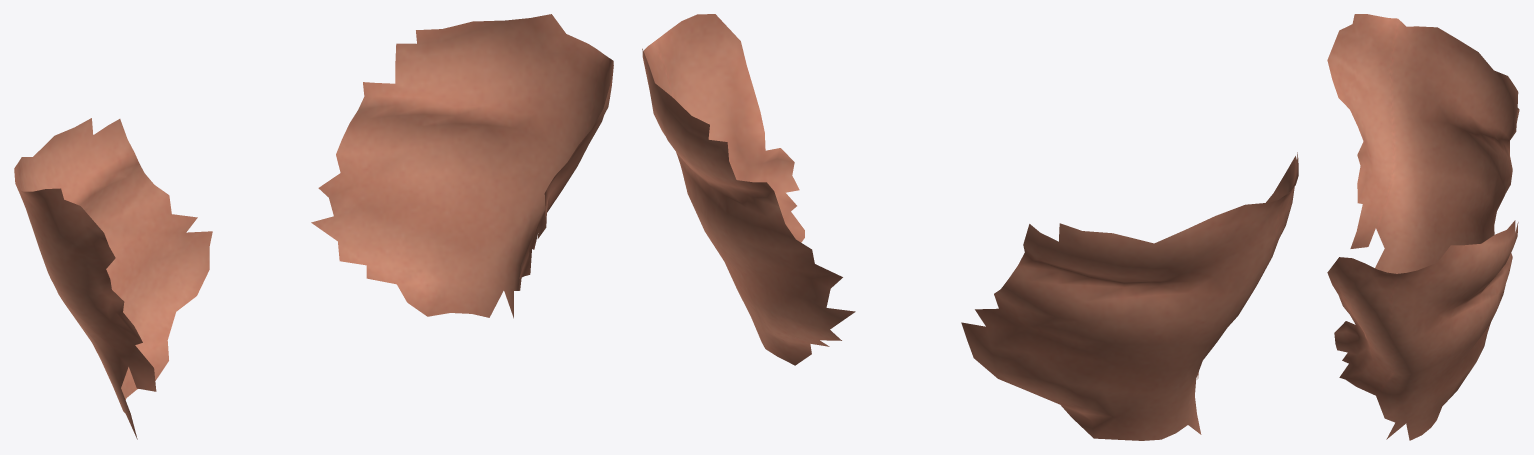
File: lats.glb
The picture shows the model from 3 angles, left to right: view 1: azimuth 30°, elevation 25°; view 2: azimuth 150°, elevation 25°; view 3: azimuth 270°, elevation 25°; orthographic projection. The views are drawn at different scales.
Parts seen in each view (by area): view 1: lats; view 2: lats; view 3: lats.
Part boxes in pixels (x1,y1,x2,y2): lats: [14, 14, 613, 439]; lats: [642, 14, 1298, 440]; lats: [1327, 14, 1519, 440].
Size of the model in its own units: 0.0472 by 0.0214 by 0.0154.
1 material, 1 textured.
